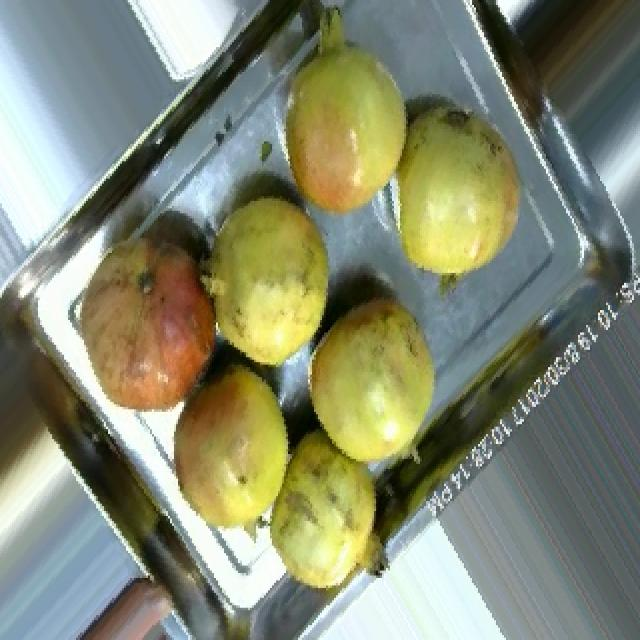fruit: (56, 204, 244, 442), (376, 81, 542, 308), (182, 173, 350, 390), (290, 278, 454, 486), (152, 350, 308, 556), (252, 417, 406, 608)
